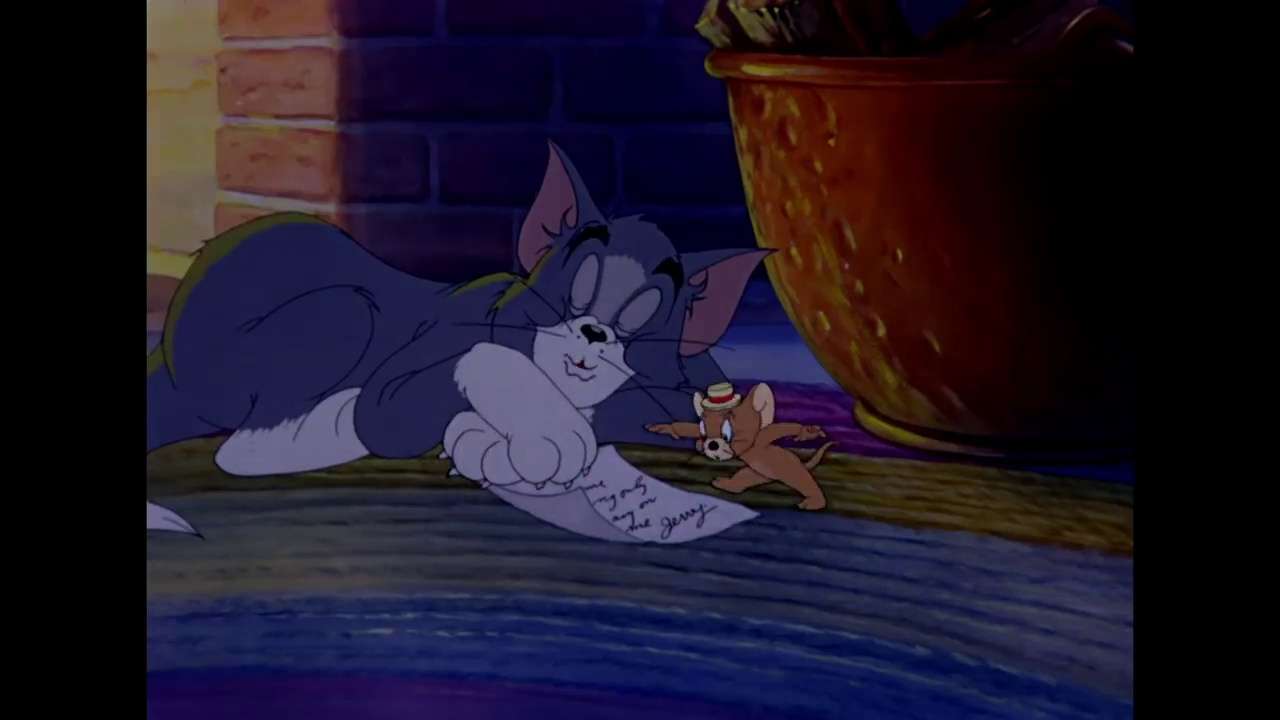tom: (483, 134, 778, 414)
